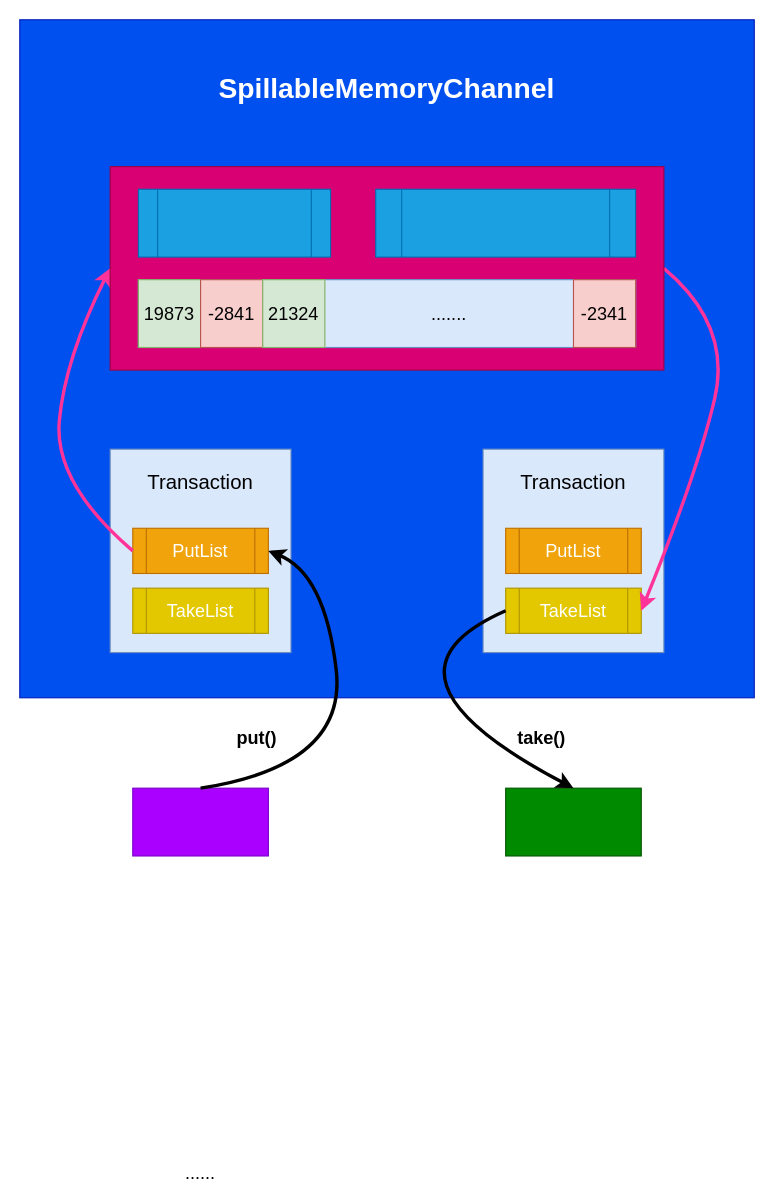
The diagram is 774 pixels wide and 1203 high, and some of its shapes have lost their labels. The shapes that lost their labels are listed below. From the top down, each one's centre as x and y in pixels, then its label:
[234,222]: Memory
[505,222]: FileChannel
[200,821]: SOURCE
[573,821]: SINK
